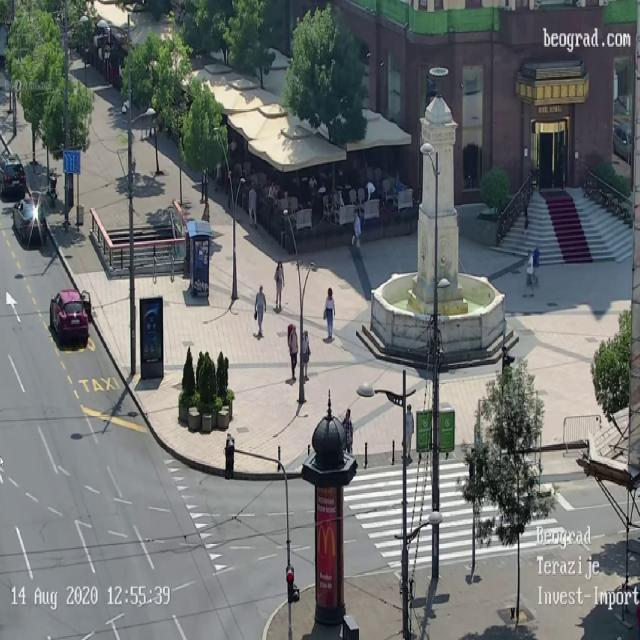car: (49, 288, 89, 346), (13, 192, 47, 246), (1, 147, 28, 196), (612, 121, 632, 163)
